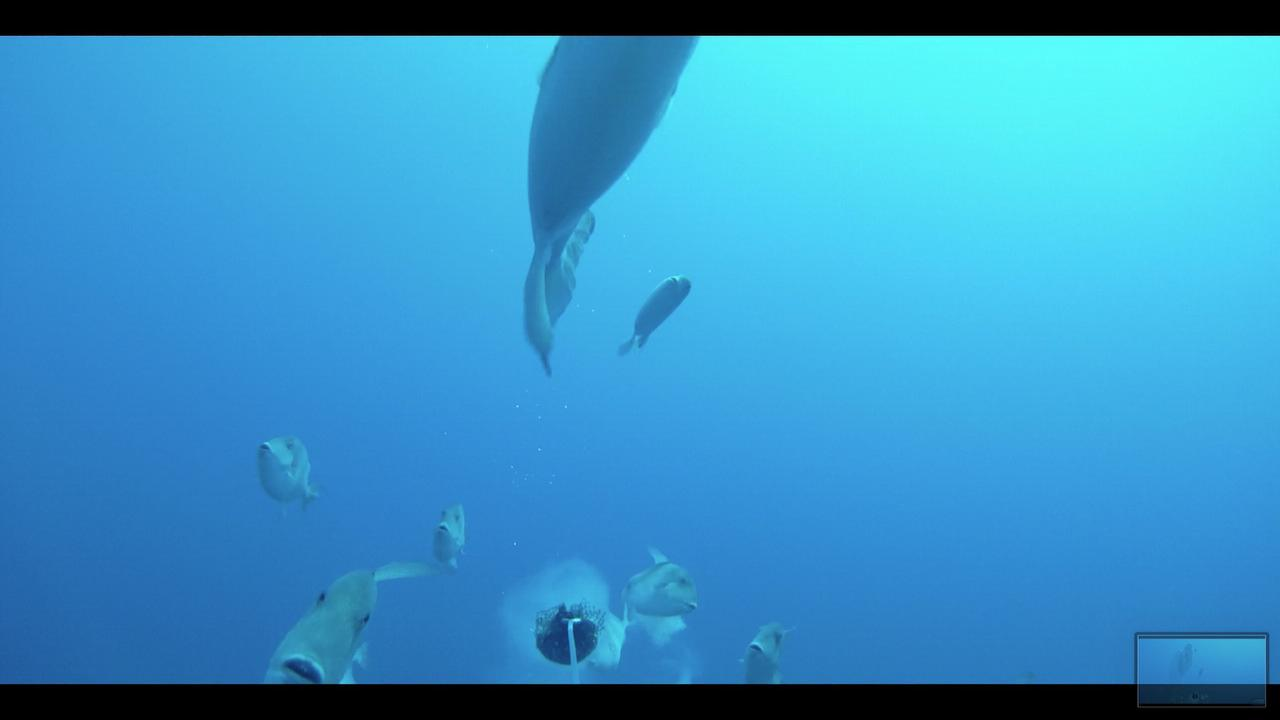balistes: (521, 38, 692, 384), (257, 560, 440, 681), (592, 536, 708, 626), (250, 426, 328, 516), (718, 608, 803, 681), (420, 490, 475, 569)
